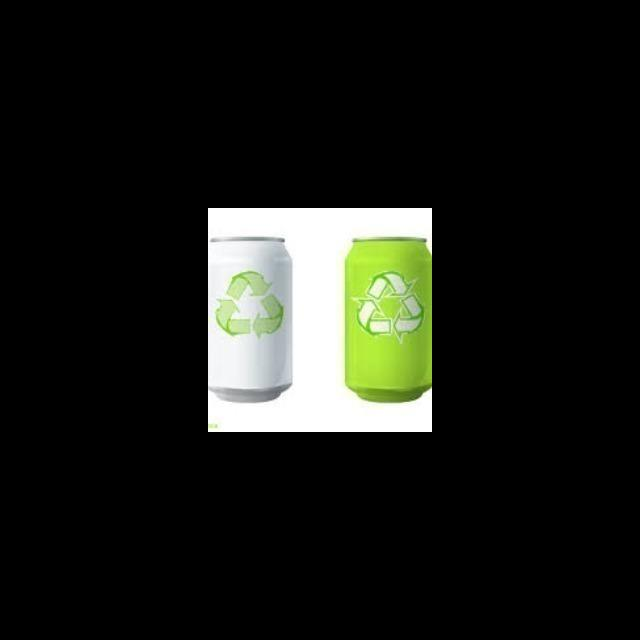metal: (208, 231, 304, 407), (342, 232, 432, 407)
